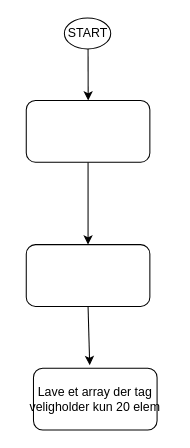
Some shapes in this 190 by 448 pixel diagram are drawn without their labels. The shapes that lost their labels are listed below. From the top down, each one's centre as x and y in pixels, then its label:
At point 87,130: "Random no. gen, generer et tal mel 1 og 100".
At point 87,275: "input lock and comp guess".
